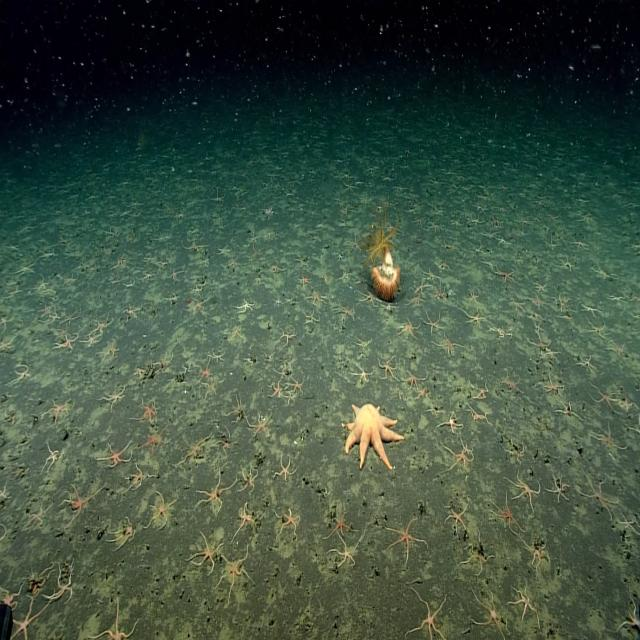brittle-stars: (406, 592, 448, 640), (472, 588, 508, 638), (383, 518, 423, 562), (580, 473, 615, 516), (94, 607, 139, 640), (197, 471, 232, 513), (11, 599, 46, 640), (219, 551, 251, 595), (511, 585, 541, 627), (192, 535, 222, 573), (493, 495, 520, 536), (511, 473, 541, 509), (149, 492, 177, 530), (464, 533, 490, 573), (53, 561, 76, 604), (65, 485, 93, 520), (101, 439, 132, 470), (330, 537, 360, 569), (445, 445, 475, 473), (182, 436, 208, 468), (446, 500, 470, 534), (111, 516, 135, 550), (141, 425, 167, 455), (592, 422, 618, 451), (276, 508, 301, 538), (235, 504, 257, 538), (622, 596, 640, 637), (591, 381, 616, 410), (526, 542, 549, 573), (328, 512, 354, 539), (0, 580, 23, 610), (27, 502, 50, 531), (550, 470, 570, 503), (344, 333, 373, 354), (251, 413, 273, 440), (276, 454, 296, 481), (540, 374, 563, 397), (128, 464, 148, 490), (44, 446, 64, 472), (102, 386, 125, 408), (48, 401, 70, 424), (557, 398, 579, 421), (137, 400, 158, 424), (331, 267, 355, 288), (241, 465, 259, 492), (216, 427, 234, 454), (438, 335, 460, 357), (486, 212, 508, 234), (379, 356, 399, 380), (56, 334, 79, 354), (579, 352, 599, 375), (502, 371, 521, 395), (29, 573, 47, 598), (398, 316, 418, 338), (468, 406, 490, 426), (592, 264, 614, 284), (231, 394, 247, 421), (405, 370, 426, 390), (443, 412, 463, 433), (94, 312, 114, 333), (529, 333, 550, 353), (423, 311, 442, 333), (620, 512, 638, 535), (464, 308, 484, 328), (337, 301, 356, 322), (103, 340, 120, 363), (509, 441, 526, 464), (62, 307, 82, 326), (492, 322, 512, 341), (296, 254, 316, 273), (157, 352, 174, 374), (353, 363, 372, 382), (496, 267, 516, 285), (358, 288, 378, 306), (13, 364, 30, 385), (121, 273, 139, 292), (610, 342, 628, 361), (470, 380, 487, 400), (332, 247, 348, 268), (0, 520, 11, 550), (279, 328, 296, 347), (34, 273, 50, 293), (582, 302, 600, 319), (590, 321, 608, 338), (556, 294, 574, 311), (560, 255, 576, 274), (199, 359, 213, 380), (237, 299, 255, 315), (204, 376, 220, 394), (270, 380, 285, 399), (308, 289, 326, 304), (0, 337, 15, 355), (126, 304, 140, 323), (0, 312, 14, 331), (305, 309, 320, 326), (610, 291, 627, 306), (84, 334, 102, 348), (620, 394, 634, 412), (424, 268, 439, 284), (269, 260, 284, 276), (210, 348, 225, 364), (0, 482, 10, 506), (191, 299, 206, 315), (37, 300, 52, 316), (18, 264, 35, 278), (579, 212, 596, 226), (530, 294, 545, 309), (512, 298, 526, 314), (170, 268, 184, 284), (571, 238, 587, 252), (228, 256, 242, 272), (290, 377, 303, 394), (230, 324, 242, 342), (433, 282, 445, 300), (534, 280, 548, 295), (547, 347, 561, 362), (64, 273, 78, 288), (530, 317, 544, 332), (408, 293, 424, 306), (189, 240, 205, 253), (142, 270, 156, 284), (190, 282, 203, 297), (482, 258, 497, 271), (417, 386, 430, 401), (348, 236, 360, 252), (136, 363, 148, 379), (158, 256, 171, 270), (299, 274, 314, 286), (383, 303, 398, 315), (633, 417, 640, 442), (142, 252, 155, 265), (450, 215, 463, 228), (547, 239, 560, 252), (471, 242, 484, 255), (468, 214, 482, 226), (114, 254, 126, 268), (497, 236, 511, 248), (266, 228, 278, 242), (468, 288, 479, 303), (48, 309, 59, 324), (415, 282, 428, 294), (474, 201, 486, 214), (344, 180, 357, 192), (444, 240, 456, 253), (108, 276, 121, 288), (218, 244, 230, 256), (285, 391, 296, 404), (439, 260, 450, 273), (278, 365, 288, 379), (104, 244, 115, 256), (429, 220, 440, 232), (178, 208, 188, 221), (274, 293, 283, 307), (631, 241, 640, 255), (633, 307, 640, 325), (549, 212, 561, 222), (312, 233, 322, 245), (437, 206, 447, 217), (266, 202, 276, 213), (446, 183, 456, 194), (384, 173, 394, 184)
